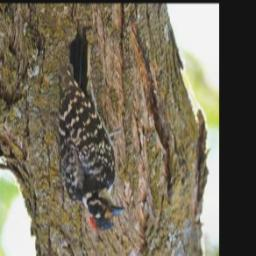Woodpecker: (62, 24, 124, 235)
